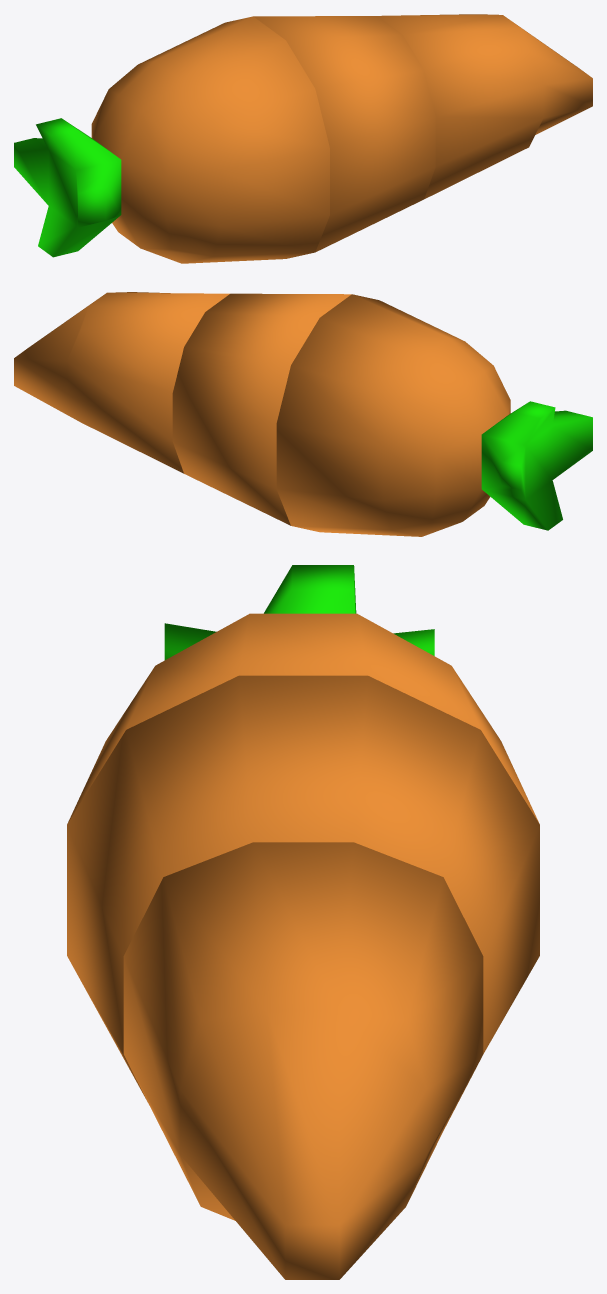
File: carrot.fbx
3 renders of one model, top to bottom at view 1: azimuth 30°, elevation 25°; view 2: azimuth 150°, elevation 25°; view 3: azimuth 270°, elevation 25°, orthographic. The views are drawn at different scales.
Parts seen in each view (by area): view 1: Cube, Cube.003, Cube.002, Cube.001; view 2: Cube, Cube.003, Cube.002, Cube.001; view 3: Cube.002, Cube.003, Cube, Cube.001.
Part boxes in pixels (box(x1,y1,x2,y2)): Cube: box(91, 16, 329, 263); Cube.003: box(253, 16, 435, 252); Cube.002: box(377, 14, 592, 198); Cube.001: box(14, 118, 121, 257); Cube: box(276, 294, 510, 536); Cube.003: box(172, 293, 351, 525); Cube.002: box(14, 292, 229, 473); Cube.001: box(481, 401, 592, 530); Cube.002: box(123, 842, 483, 1279); Cube.003: box(67, 675, 539, 1101); Cube: box(67, 613, 539, 823); Cube.001: box(164, 565, 434, 659).
Size of the model in its own units: 836 by 320 by 320.
